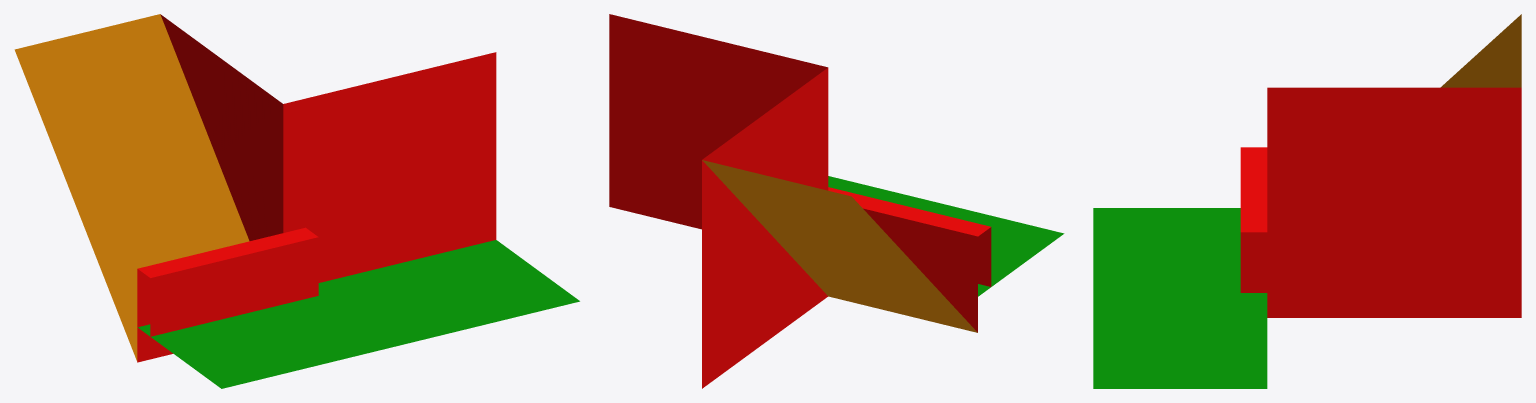
3 views of the same model, side by side, from view 1: azimuth 30°, elevation 25°; view 2: azimuth 150°, elevation 25°; view 3: azimuth 270°, elevation 25° (orthographic). The views are drawn at different scales.
Visible parts, largest first — view 1: None_A_W_A_E_S_W_E_E_None; view 2: None_A_W_A_E_S_W_E_E_None; view 3: None_A_W_A_E_S_W_E_E_None.
Boxes of the visible parts, left/top/right/bottom form: None_A_W_A_E_S_W_E_E_None: left=14, top=14, right=579, bottom=388; None_A_W_A_E_S_W_E_E_None: left=609, top=14, right=1064, bottom=388; None_A_W_A_E_S_W_E_E_None: left=1093, top=14, right=1521, bottom=388.
Bounding box in the file's own units: 100 × 59.38 × 100.
